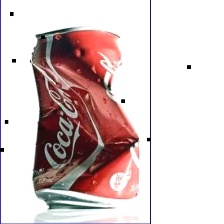can: (24, 22, 153, 212)
